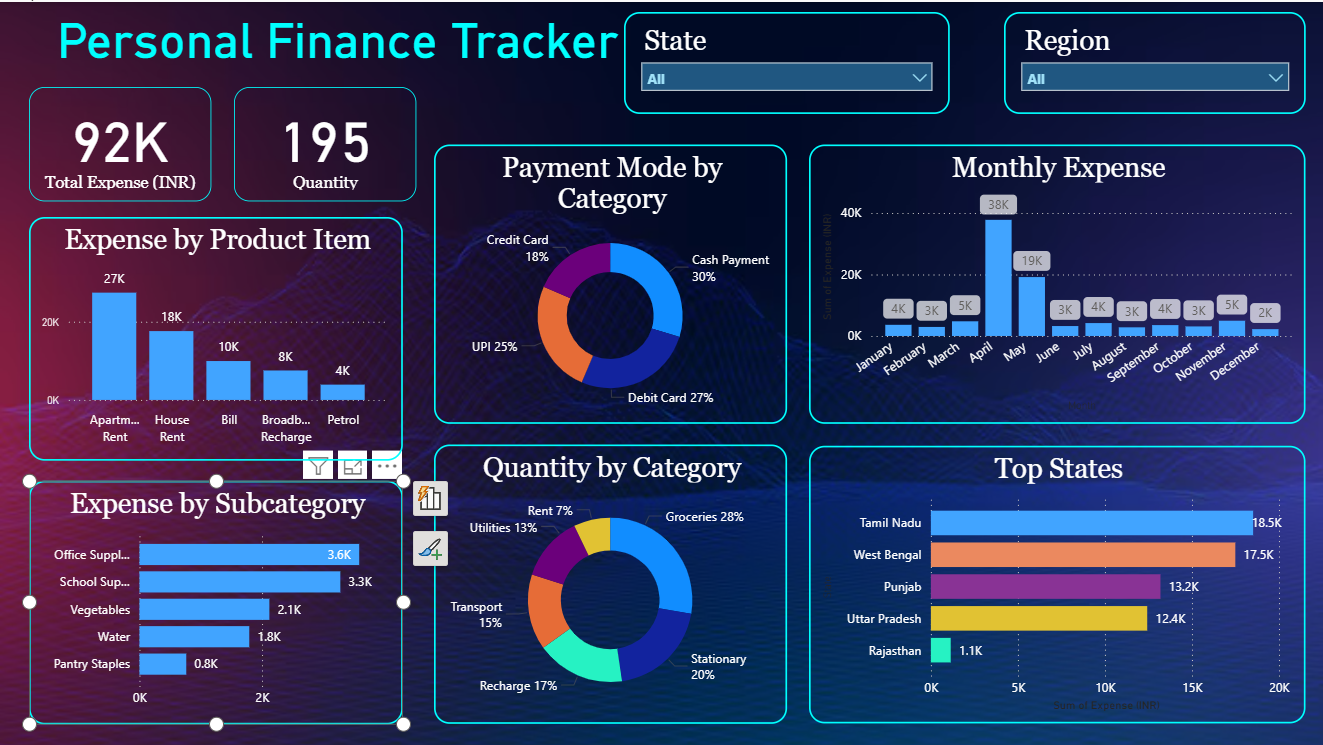

The dashboard page shown, as its layout file describes it:
{"tool":"powerbi","page":{"name":"Page 1","canvas":[1280,720],"ordinal":0},"visuals":[{"type":"lineClusteredColumnComboChart","title":"Monthly Expense","fields":{"Y":["Sheet1.Expense (INR)"],"Category":["Sheet1.Date.Variation.Date Hierarchy.Year","Sheet1.Date.Variation.Date Hierarchy.Quarter","Sheet1.Date.Variation.Date Hierarchy.Month","Sheet1.Date.Variation.Date Hierarchy.Day"]},"box":[782,137.1,479,269.8],"z":0},{"type":"card","fields":{"Values":["Sheet1.Expense (INR)"]},"box":[28.9,82.2,176,110],"z":1000},{"type":"textbox","title":"Personal Finance Tracker","box":[13,20.2,597.3,76.5],"z":2000},{"type":"clusteredBarChart","title":"Top States","fields":{"Category":["Sheet1.State"],"Y":["Sheet1.Expense (INR)"]},"box":[782,428.5,479,268.4],"z":3000},{"type":"clusteredBarChart","title":" Expense  by Subcategory","fields":{"Category":["Sheet1.Subcategory"],"Y":["Sheet1.Expense (INR)"]},"box":[28.9,461.7,360.7,235.2],"z":4000},{"type":"donutChart","title":"Quantity by Category","fields":{"Category":["Sheet1.Category"],"Y":["Sheet1.Quantity"]},"box":[419.8,427.1,340.5,269.8],"z":5000},{"type":"donutChart","title":"Payment Mode by Category","fields":{"Y":["Sheet1.Quantity"],"Category":["Sheet1.Payment Mode"]},"box":[419.8,137.1,340.5,269.8],"z":6000},{"type":"card","fields":{"Values":["Sheet1.Quantity"]},"box":[226.5,82.2,176,110],"z":7000},{"type":"clusteredColumnChart","title":"Expense  by Product Item","fields":{"Y":["Sheet1.Expense (INR)"],"Category":["Sheet1.Product Item"]},"box":[28.9,207.8,360.7,235],"z":8000},{"type":"slicer","title":"States","fields":{"Values":["Sheet1.State"]},"box":[603.1,10.1,314.5,98.1],"z":9000},{"type":"slicer","fields":{"Values":["Sheet1.Region"]},"box":[969.5,10.1,291.4,98.1],"z":10000}]}

Visuals, with their boxes in screenshot pixels (x1, y1, x2, y2), scaled from the page's 1280x720 canvas onto the 1323x745 screenshot:
"Monthly Expense" lineClusteredColumnComboChart: box(808, 142, 1303, 421)
card - Sheet1.Expense (INR): box(30, 85, 212, 199)
"Personal Finance Tracker" textbox: box(13, 21, 631, 100)
"Top States" clusteredBarChart: box(808, 443, 1303, 721)
" Expense  by Subcategory" clusteredBarChart: box(30, 478, 403, 721)
"Quantity by Category" donutChart: box(434, 442, 786, 721)
"Payment Mode by Category" donutChart: box(434, 142, 786, 421)
card - Sheet1.Quantity: box(234, 85, 416, 199)
"Expense  by Product Item" clusteredColumnChart: box(30, 215, 403, 458)
"States" slicer: box(623, 10, 948, 112)
slicer - Sheet1.Region: box(1002, 10, 1303, 112)
